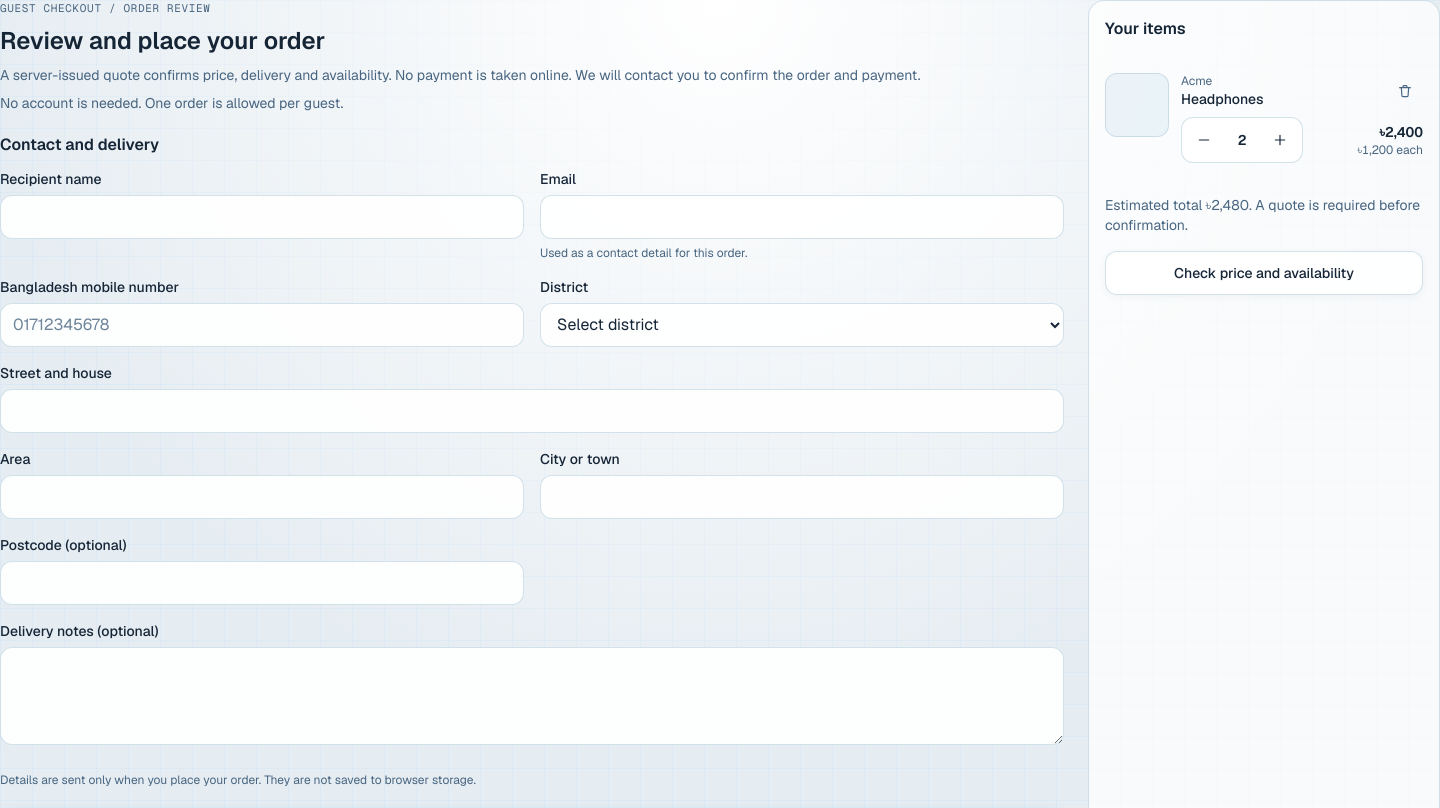
Test case: default guest-only checkout › blocks a used guest before quote review without creating an acceptance attempt
The width and height of the screenshot is (1440, 808).
Click the button "Check price and availability". click: click(1264, 273)
box: [1105,251,1423,295]
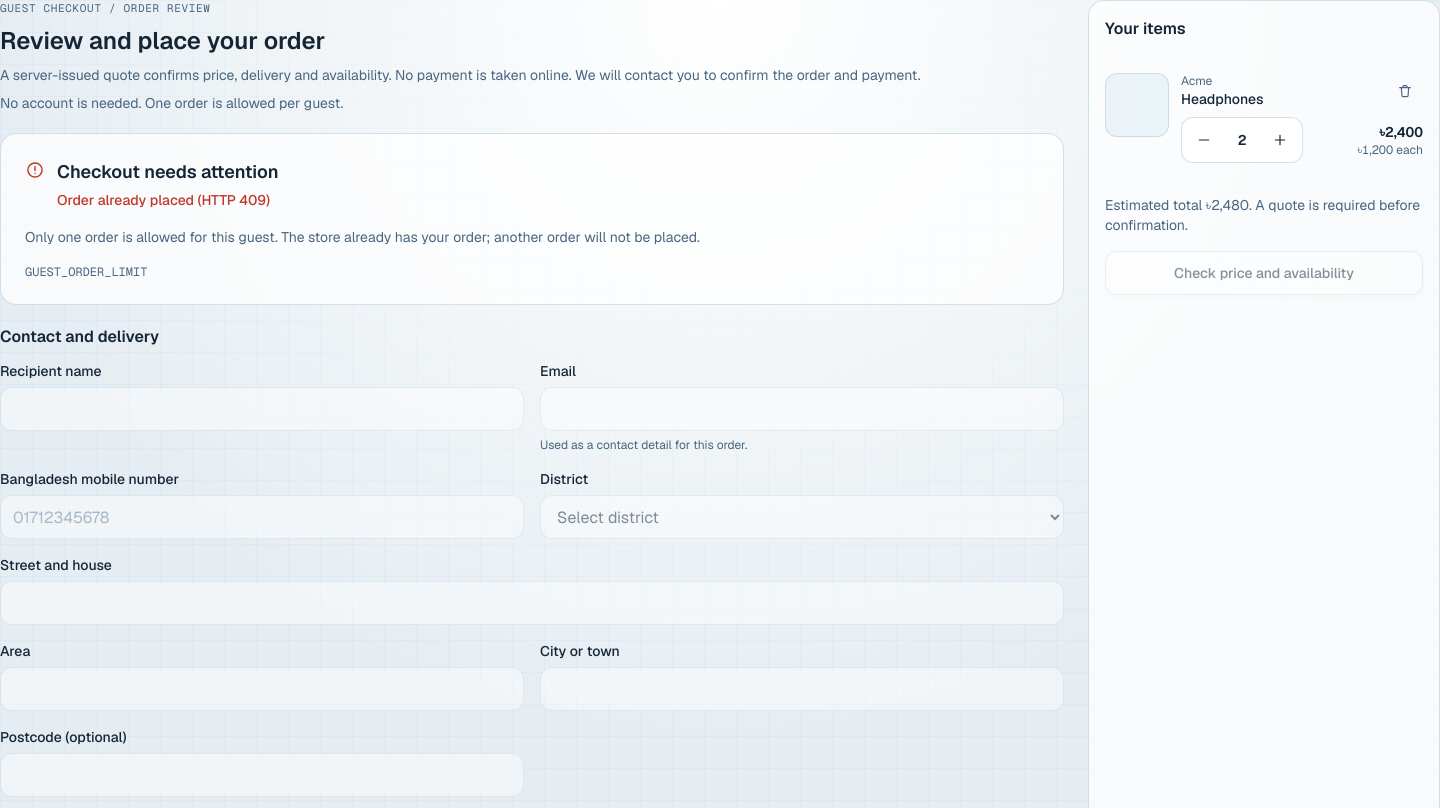
Expected: the text "GUEST_ORDER_LIMIT" is shown, [25,264,147,280]
Expected: the button "Check price and availability" is disabled, [1105,251,1423,295]
